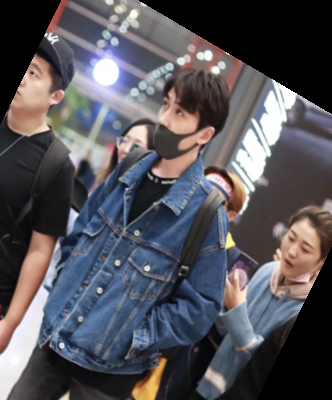mask_weared_incorrect: (148, 63, 233, 170)
